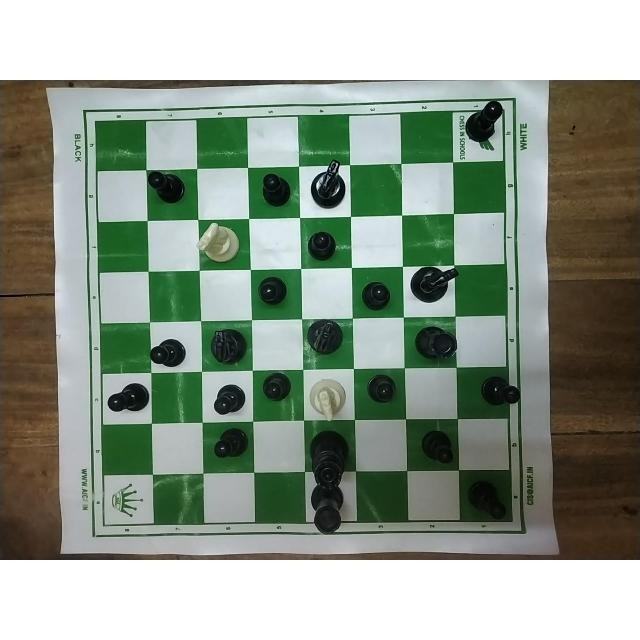black-knight: (406, 260, 460, 306), (311, 154, 349, 210), (206, 323, 250, 364), (309, 320, 345, 362)
black-pawn: (460, 96, 507, 150), (466, 478, 510, 522), (107, 379, 153, 416), (146, 168, 191, 205), (475, 374, 522, 408), (256, 167, 298, 205), (420, 426, 460, 465), (209, 423, 248, 462), (253, 275, 289, 313), (364, 372, 400, 409), (209, 383, 248, 417), (360, 277, 396, 313), (148, 334, 186, 367), (263, 369, 294, 405), (305, 227, 337, 261)
black-queen: (307, 428, 353, 488)
black-rook: (412, 324, 460, 362), (312, 489, 344, 537)
white-knight: (194, 218, 244, 265), (305, 375, 347, 423)
